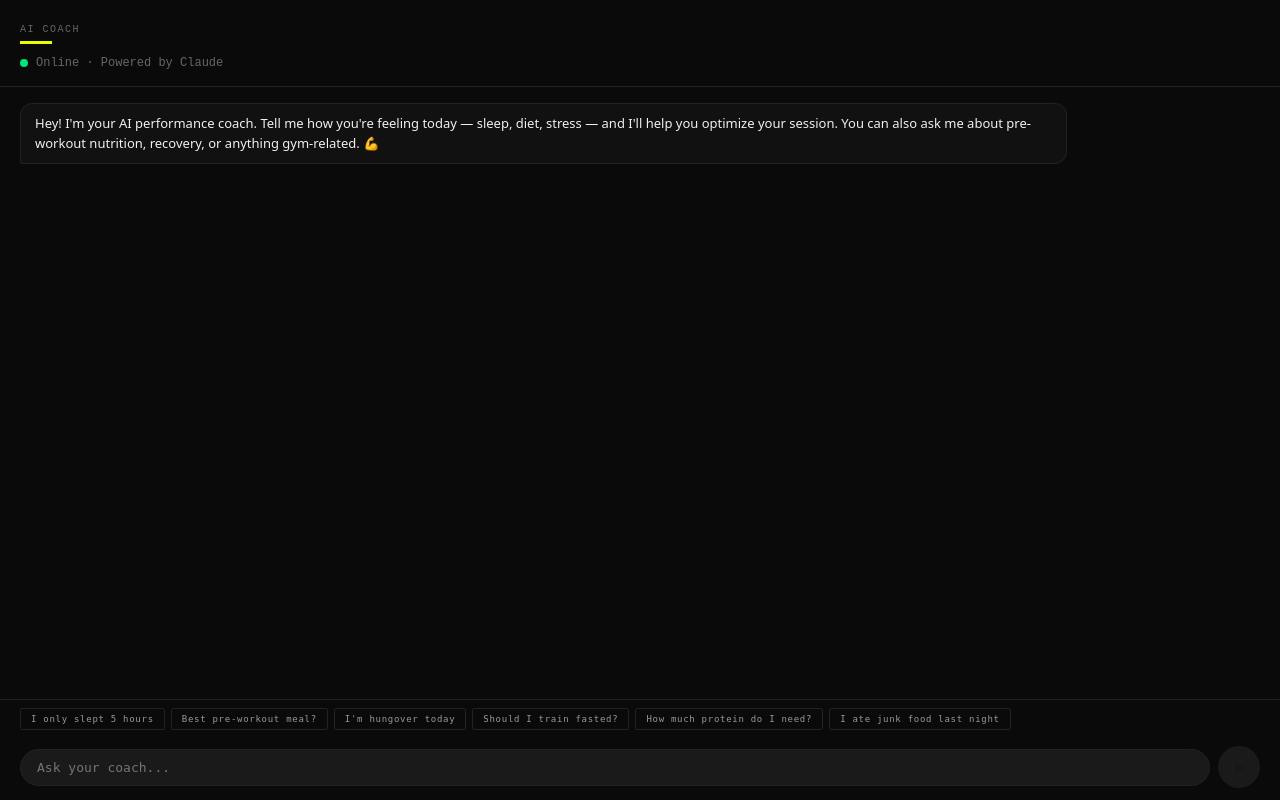
Scenario: AIChat component › US-04: loading indicator is shown while waiting for AI response
Step 1. Type "Hello" into the field with test id "chat-input" → [615, 767], box [20,748,1210,786]
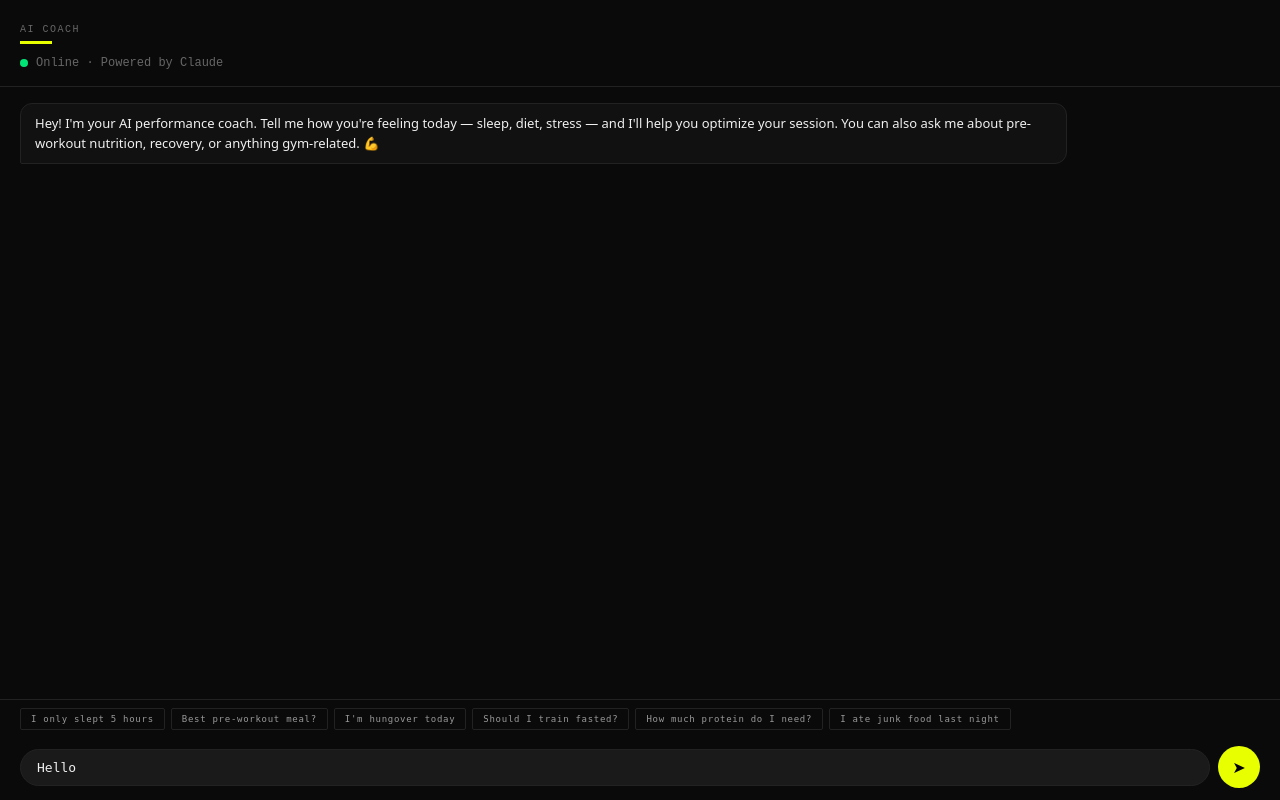
Step 2. Click the button with test id "send-button" → [1239, 767], box [1218,746,1260,788]
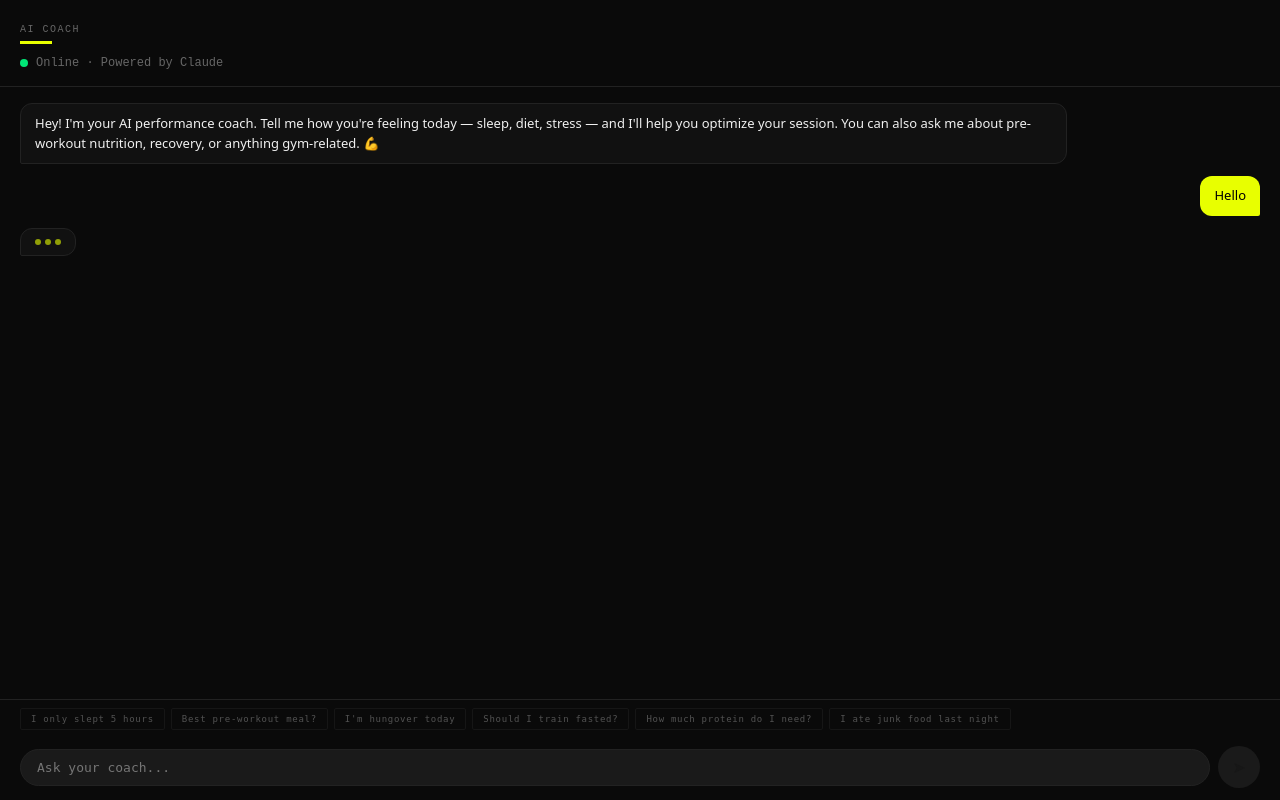
Expected: the element with test id "loading-indicator" is shown, [20,228,76,256]
